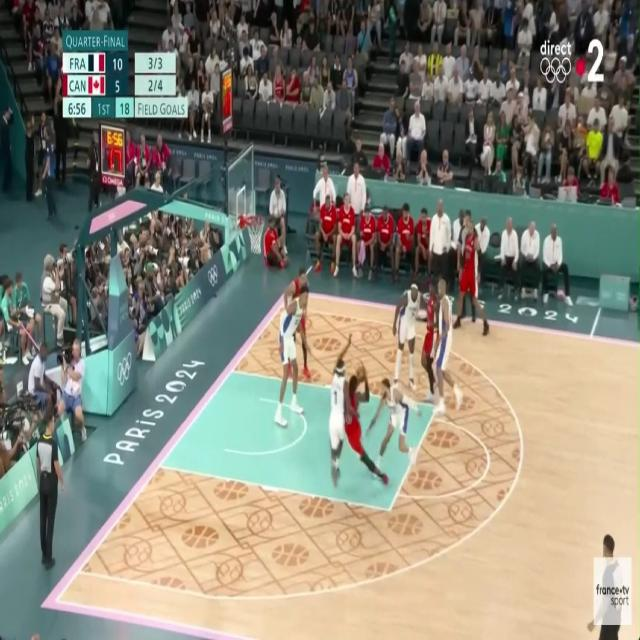ball_handler: (348, 362, 382, 486)
